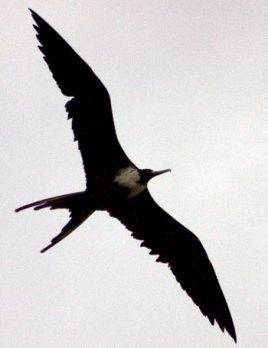bird: (14, 6, 241, 345)
